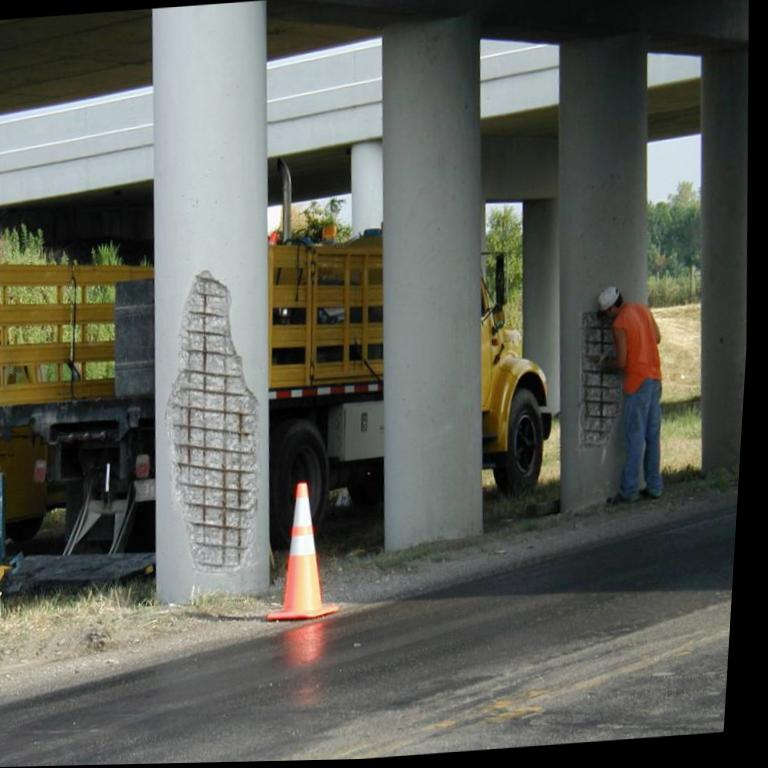spalling: (166, 270, 257, 571), (580, 313, 621, 446)
